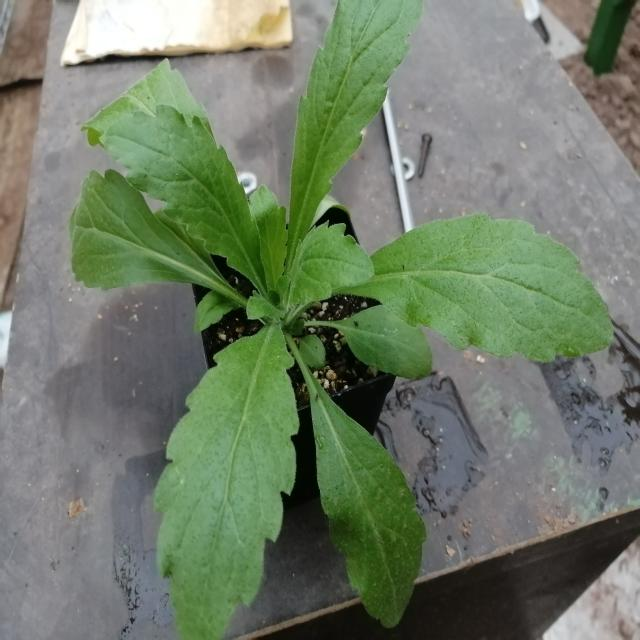horseweed: (99, 0, 550, 587)
